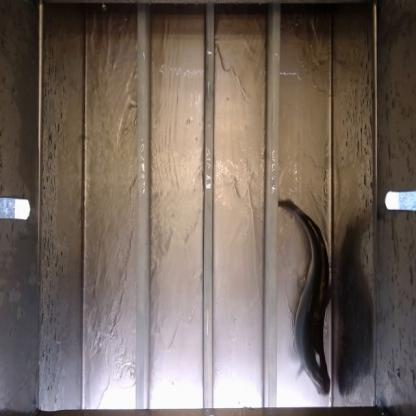pezw: (274, 189, 333, 398)
